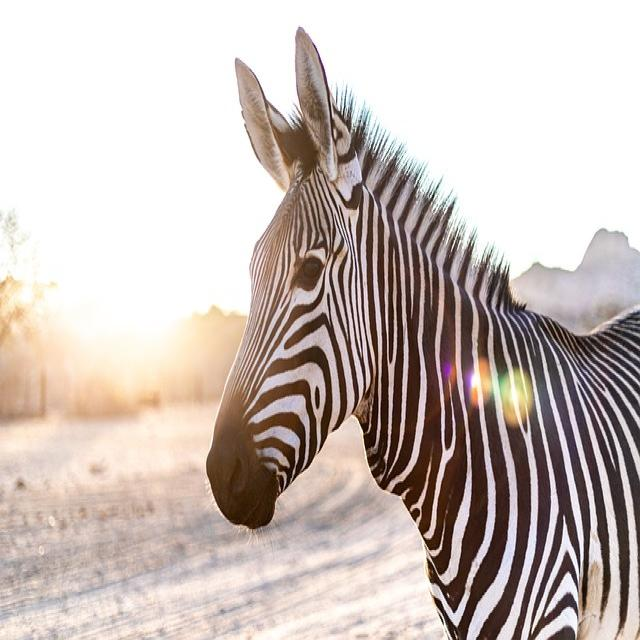Herbivorous: (205, 28, 640, 640)
